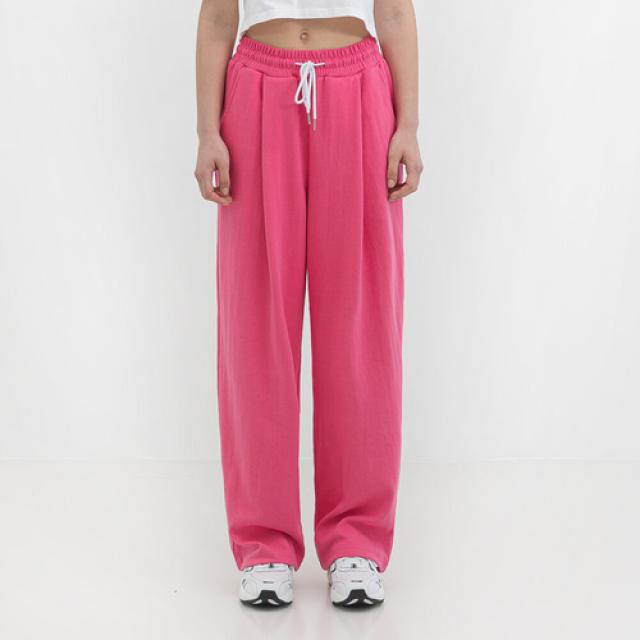Blouse_deep: (210, 44, 404, 575)
